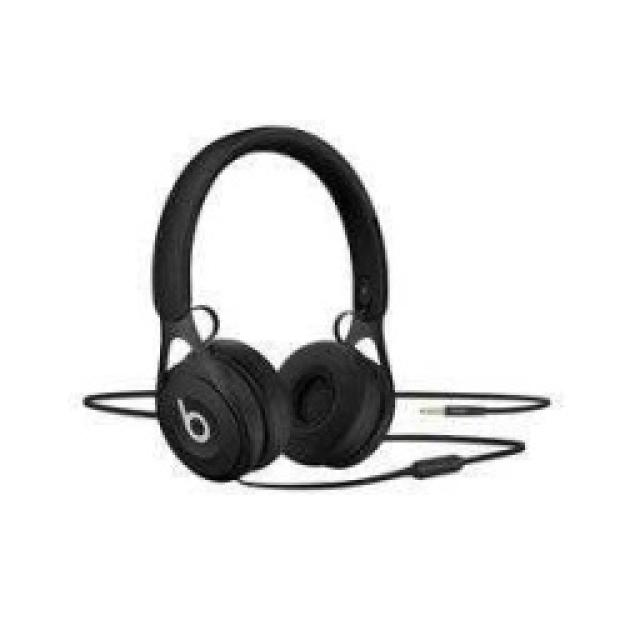headphones: (147, 122, 395, 482)
